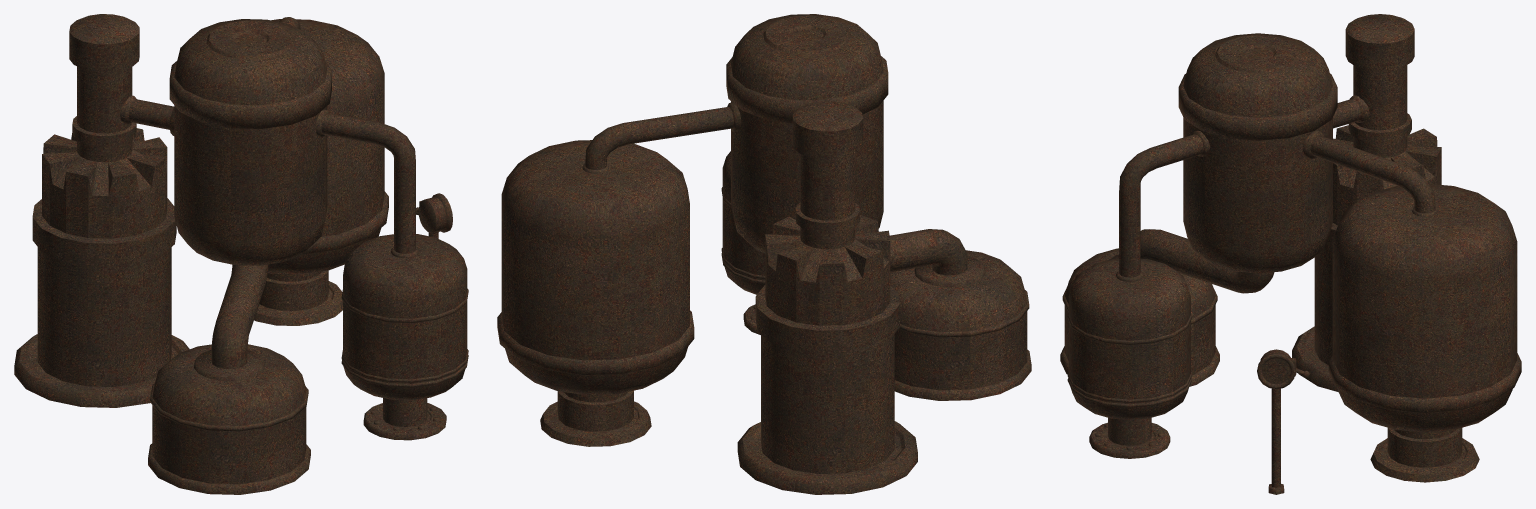
Rendered from tank_system_mx_1.glb.
The picture shows the model from 3 angles, left to right: view 1: azimuth 30°, elevation 25°; view 2: azimuth 150°, elevation 25°; view 3: azimuth 270°, elevation 25°; orthographic projection. The views are drawn at different scales.
Visible parts, largest first — view 1: tank_system_mx_1; view 2: tank_system_mx_1; view 3: tank_system_mx_1.
Boxes of the visible parts, <box> form: tank_system_mx_1: <box>14,14,468,494</box>; tank_system_mx_1: <box>497,14,1031,494</box>; tank_system_mx_1: <box>1060,14,1521,494</box>.
Bounding box in the file's own units: 2.61 × 2.39 × 2.87.
Materials: 1 (1 with a texture image).
